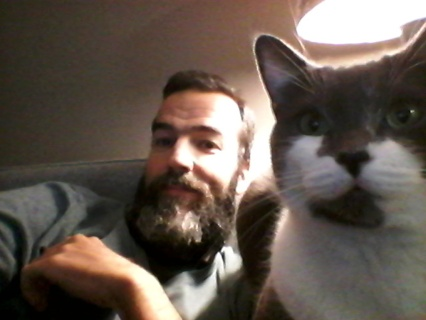Cat: (247, 17, 426, 320)
